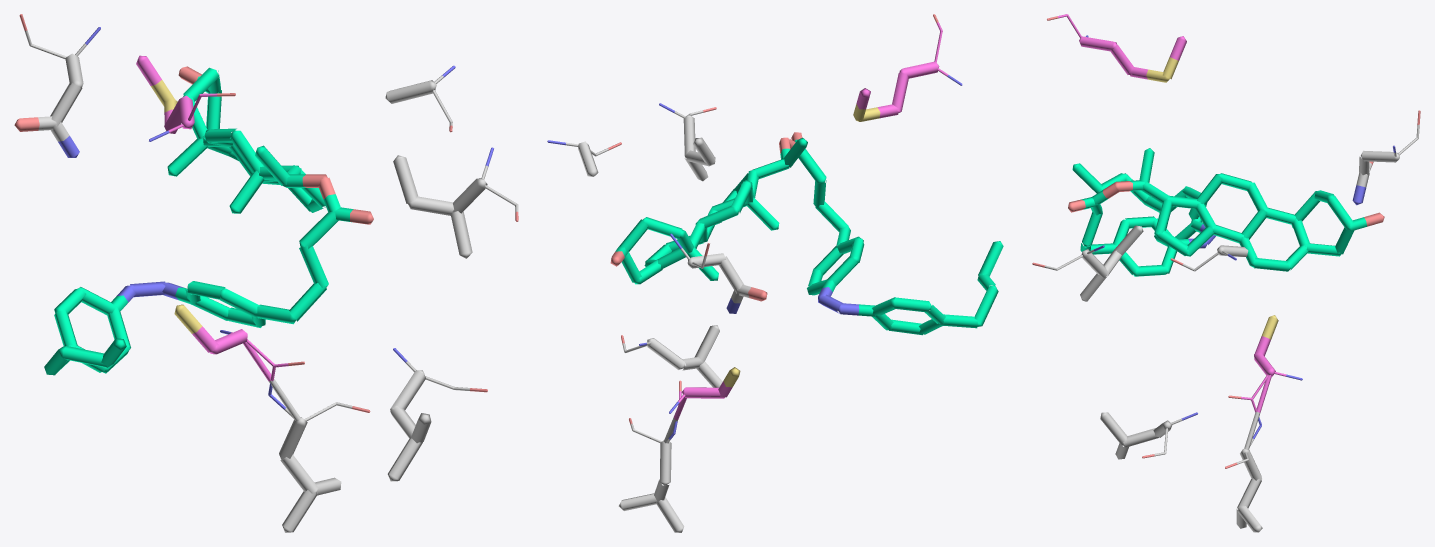
File: OptoChol.gltf
The picture shows the model from 3 angles, left to right: view 1: azimuth 30°, elevation 25°; view 2: azimuth 150°, elevation 25°; view 3: azimuth 270°, elevation 25°; orthographic projection. The views are drawn at different scales.
Visible parts, largest first — view 1: node-geom74, node-geom68, node-geom78, node-geom73, node-geom45, node-geom33, node-geom77, node-geom32, node-geom67, node-geom54, node-geom80, node-geom56 (+6 smaller); view 2: no part large enough to name; view 3: no part large enough to name.
Part boxes in pixels (<box>): node-geom74: <box>385,80,436,103</box>; node-geom68: <box>282,490,316,532</box>; node-geom78: <box>393,155,417,203</box>; node-geom73: <box>387,438,422,481</box>; node-geom45: <box>167,138,207,176</box>; node-geom33: <box>229,170,264,213</box>; node-geom77: <box>450,211,472,258</box>; node-geom32: <box>230,130,263,173</box>; node-geom67: <box>280,454,318,493</box>; node-geom54: <box>299,212,338,248</box>; node-geom80: <box>50,82,82,126</box>; node-geom56: <box>289,283,326,321</box>.
Size of the model in its own units: 18.69 by 21.94 by 17.49.
